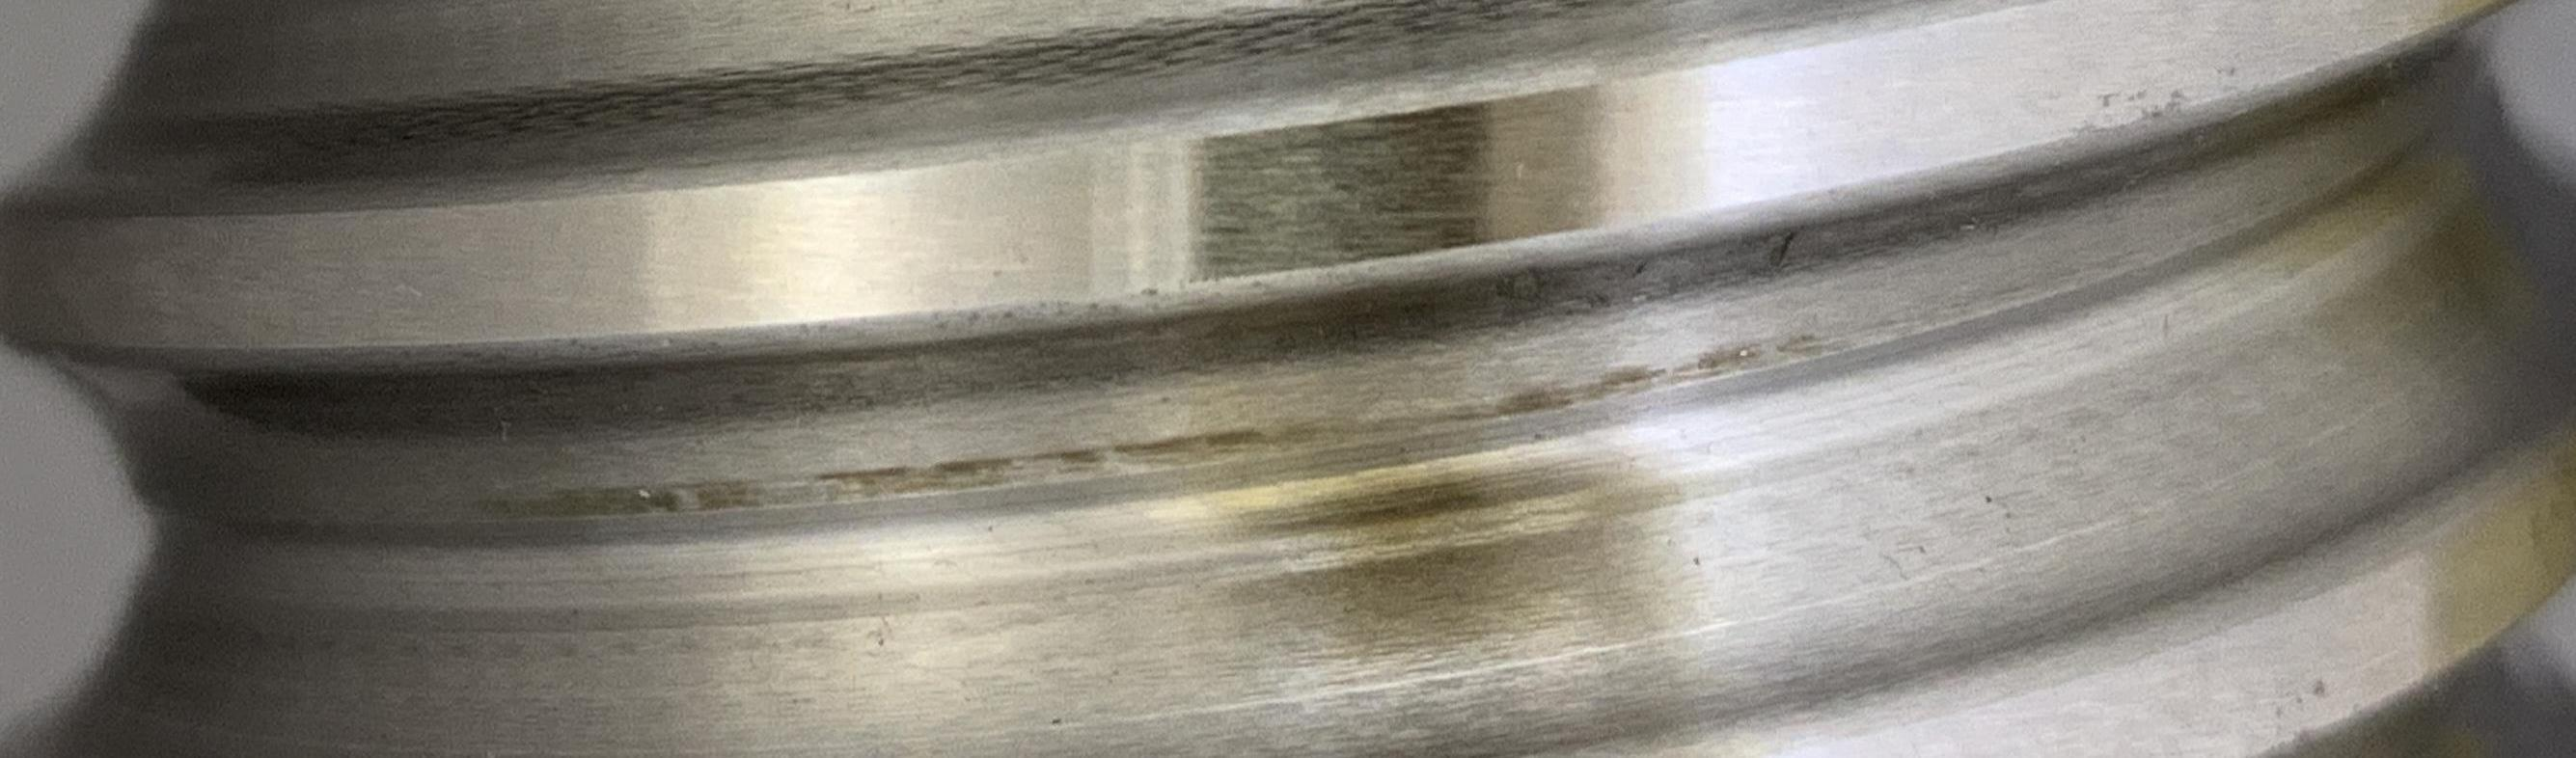pitting: (1769, 233, 1794, 266), (1630, 261, 1644, 277)
